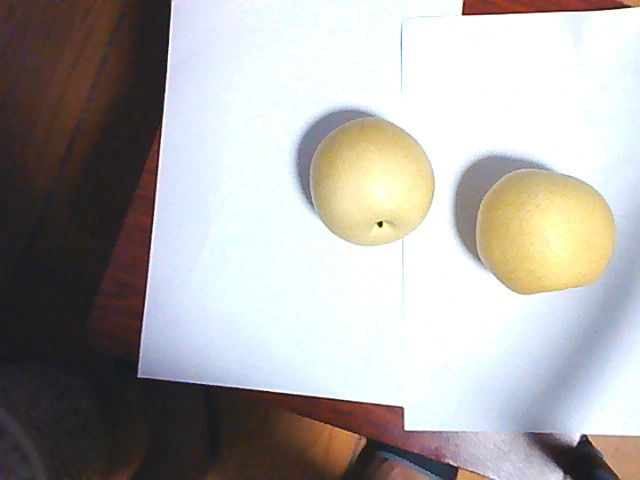pear: (471, 165, 613, 298), (310, 116, 437, 246)
